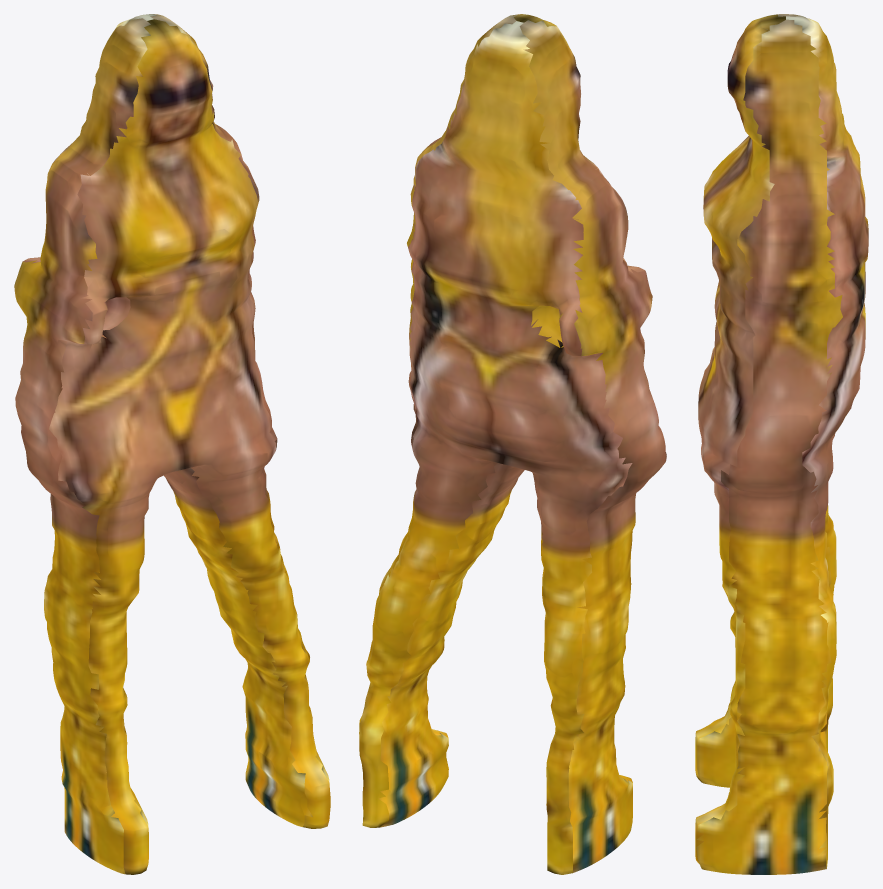
The model's file is volt.glb.
The picture shows the model from 3 angles, left to right: view 1: azimuth 30°, elevation 25°; view 2: azimuth 150°, elevation 25°; view 3: azimuth 270°, elevation 25°; orthographic projection. The views are drawn at different scales.
Visible parts, largest first — view 1: Volt; view 2: Volt; view 3: Volt.
Part boxes in pixels (x1,y1,x2,y2): Volt: [14, 14, 330, 874]; Volt: [359, 14, 666, 874]; Volt: [695, 14, 868, 874].
Bounding box in the file's own units: 0.6007 × 1.74 × 0.3463.
Materials: 1 (1 with a texture image).
